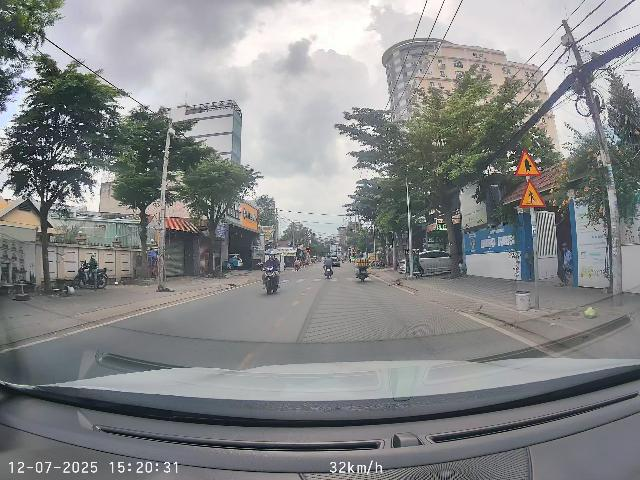207-giao-nhau-voi-duong-khong-uu-tien: (515, 149, 542, 177)
224-duong-nguoi-di-bo-cat-ngang: (519, 178, 546, 209)
